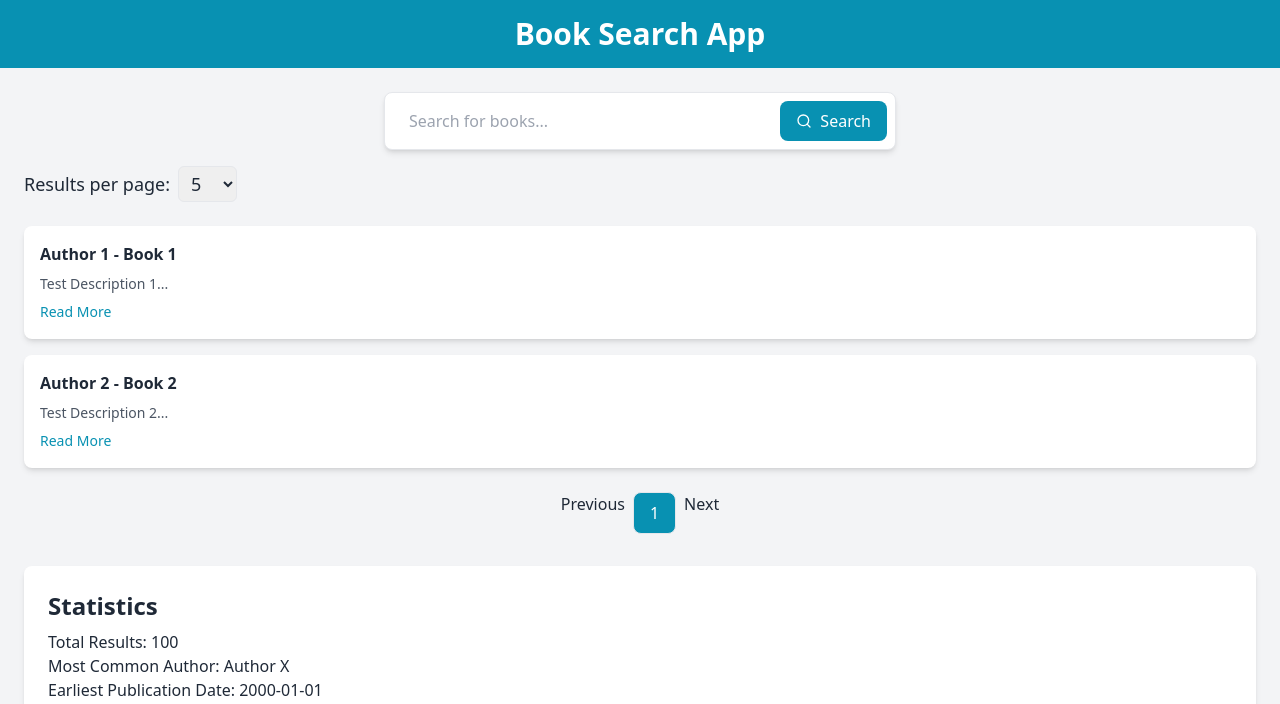
toggles description correctly
The image size is (1280, 704).
Check: the text "Author 1 - Book 1" is shown, box [40,243,177,265]
Click the button "Read More" below "Author 1" at (76, 312), box [40,302,111,322]
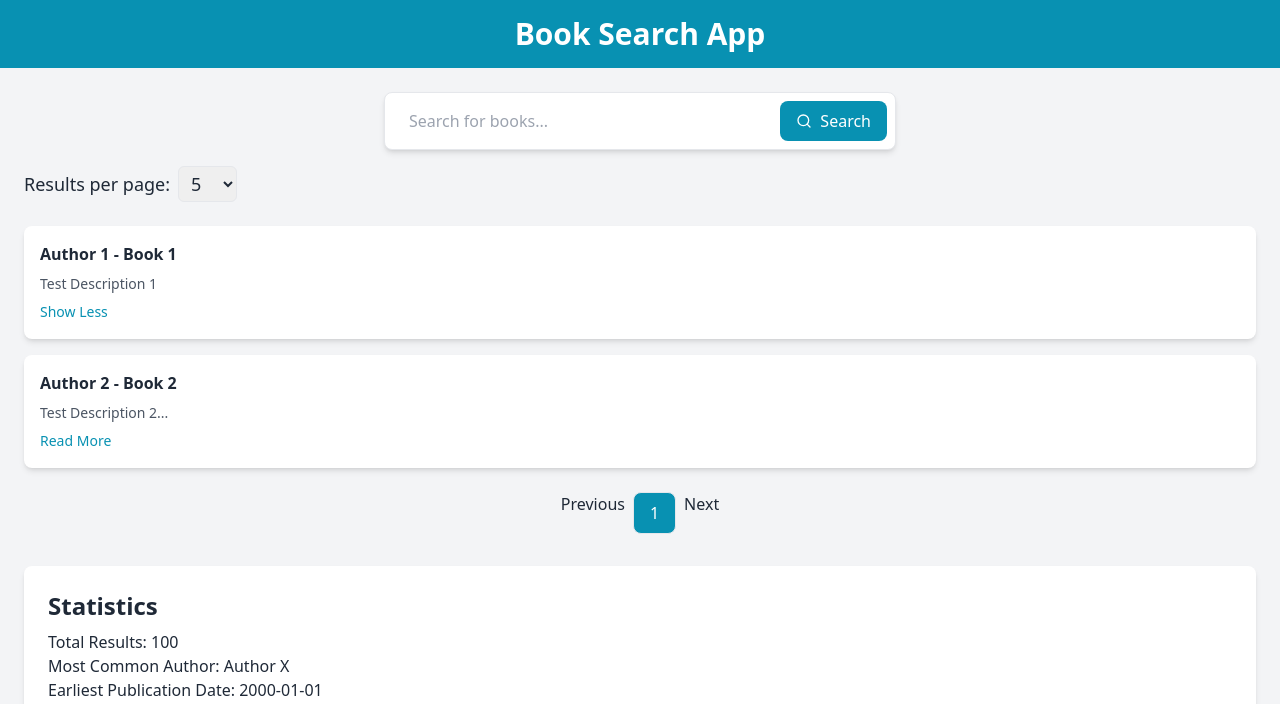
Check: the button "Show Less" is shown, box [40,302,108,322]
